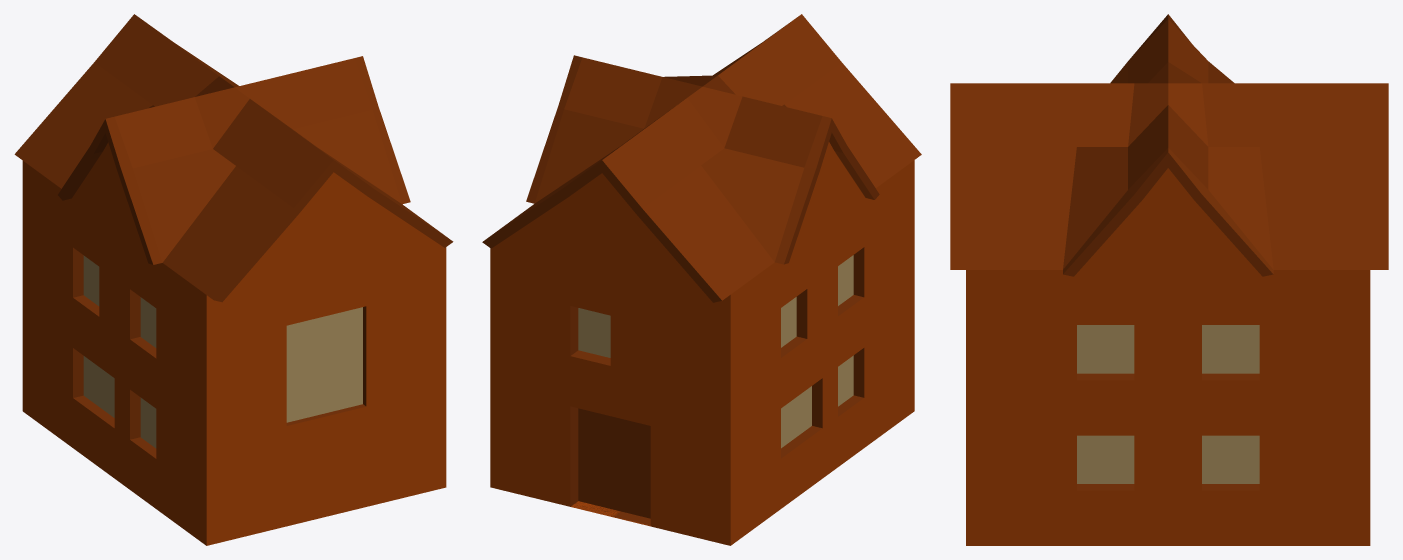
The model's file is house.gltf.
The picture shows the model from 3 angles, left to right: view 1: azimuth 30°, elevation 25°; view 2: azimuth 150°, elevation 25°; view 3: azimuth 270°, elevation 25°; orthographic projection. The views are drawn at different scales.
Visible parts, largest first — view 1: Cube; view 2: Cube; view 3: Cube.
Boxes of the visible parts, left/top/right/bottom form: Cube: left=14, top=14, right=453, bottom=545; Cube: left=482, top=14, right=921, bottom=545; Cube: left=950, top=14, right=1388, bottom=545.
Bounding box in the file's own units: 2.15 × 2.89 × 2.88.
1 material, 1 textured.
